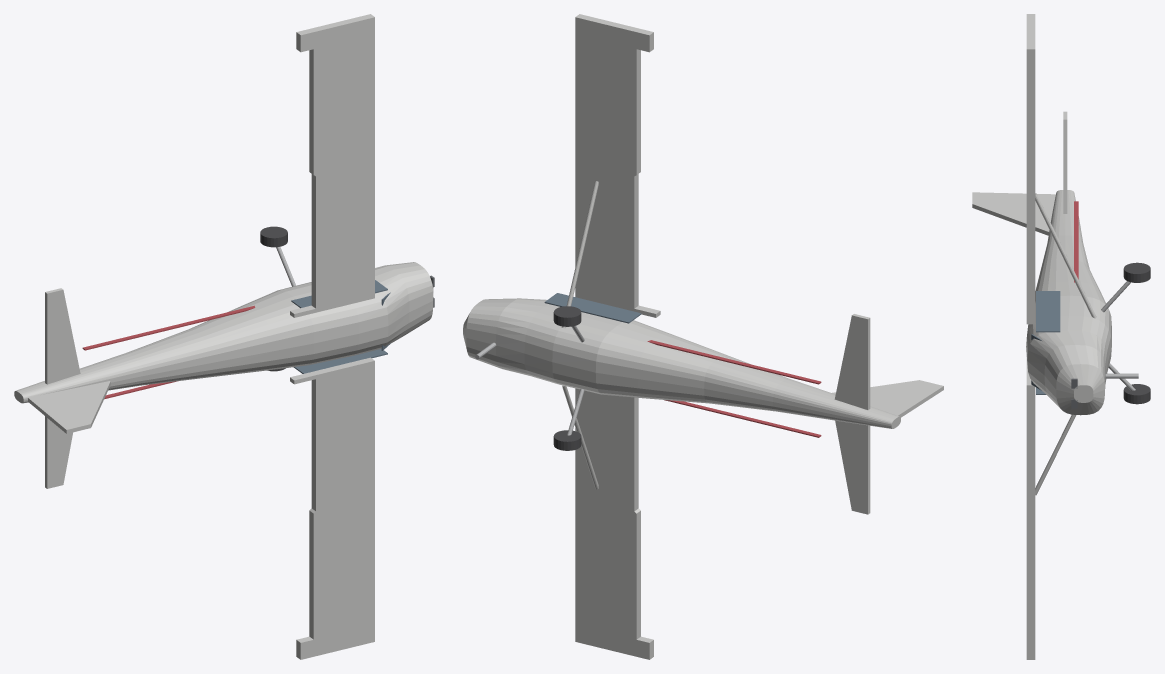
Rendered from c172_body.glb.
3 views of the same model, side by side, from view 1: azimuth 30°, elevation 25°; view 2: azimuth 150°, elevation 25°; view 3: azimuth 270°, elevation 25° (orthographic). The views are drawn at different scales.
Parts seen in each view (by area): view 1: part0, part7, part6, part12, part10, part11, part1, part4; view 2: part0, part6, part7, part10, part11, part12, part2, part1; view 3: part0, part6, part7, part12, part2, part8, part10, part14, part16, part9, part1.
Boxes of the visible parts, x1=… form: part0: x1=14, y1=262, x2=433, y2=403; part7: x1=290, y1=357, x2=374, y2=659; part6: x1=290, y1=14, x2=374, y2=317; part12: x1=28, y1=380, x2=110, y2=433; part10: x1=45, y1=288, x2=80, y2=384; part11: x1=45, y1=416, x2=72, y2=488; part1: x1=82, y1=305, x2=255, y2=350; part4: x1=293, y1=349, x2=387, y2=373; part0: x1=463, y1=298, x2=900, y2=428; part6: x1=575, y1=14, x2=660, y2=317; part7: x1=575, y1=388, x2=653, y2=659; part10: x1=834, y1=314, x2=870, y2=409; part11: x1=835, y1=420, x2=870, y2=514; part12: x1=832, y1=380, x2=943, y2=417; part2: x1=544, y1=293, x2=641, y2=323; part1: x1=647, y1=340, x2=821, y2=384; part0: x1=1026, y1=190, x2=1111, y2=415; part6: x1=1026, y1=14, x2=1035, y2=324; part7: x1=1026, y1=357, x2=1035, y2=659; part12: x1=972, y1=192, x2=1055, y2=235; part2: x1=1036, y1=291, x2=1060, y2=332; part8: x1=1035, y1=193, x2=1096, y2=318; part10: x1=1063, y1=111, x2=1067, y2=213; part14: x1=1123, y1=262, x2=1150, y2=282; part16: x1=1123, y1=384, x2=1150, y2=404; part9: x1=1035, y1=414, x2=1076, y2=495; part1: x1=1074, y1=201, x2=1078, y2=282.
Bounding box in the file's own units: 7.72 × 11 × 2.91.
